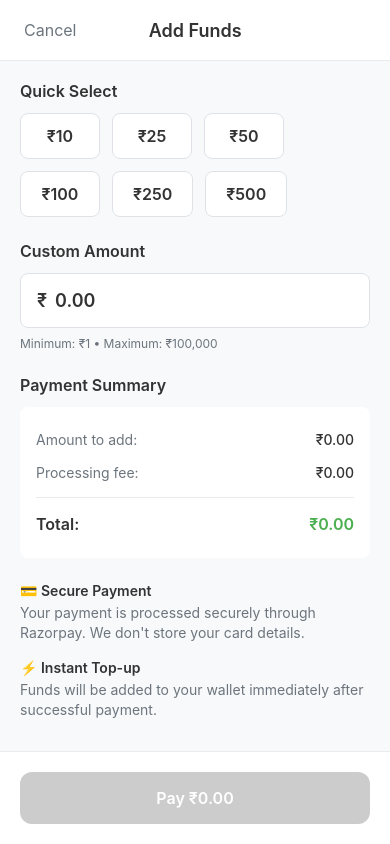
Test: TopUpModal › should handle custom amount input
Step 1. Type "150" into the field with placeholder "0.00" → (204, 300), box [55,278,353,323]
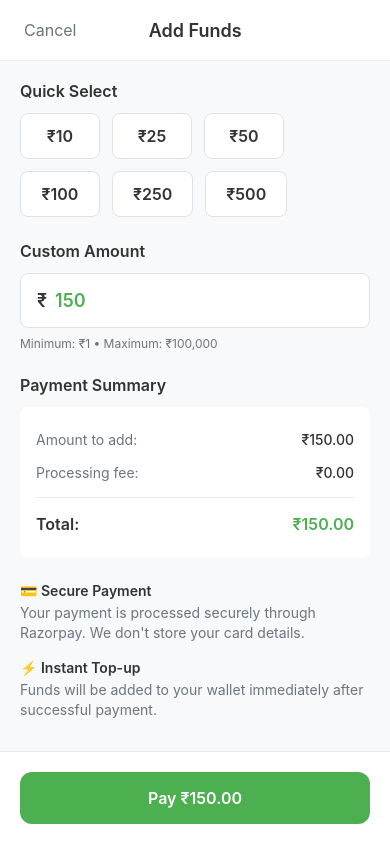
Expected: the text "Pay ₹150.00" is shown, [148,788,242,808]
